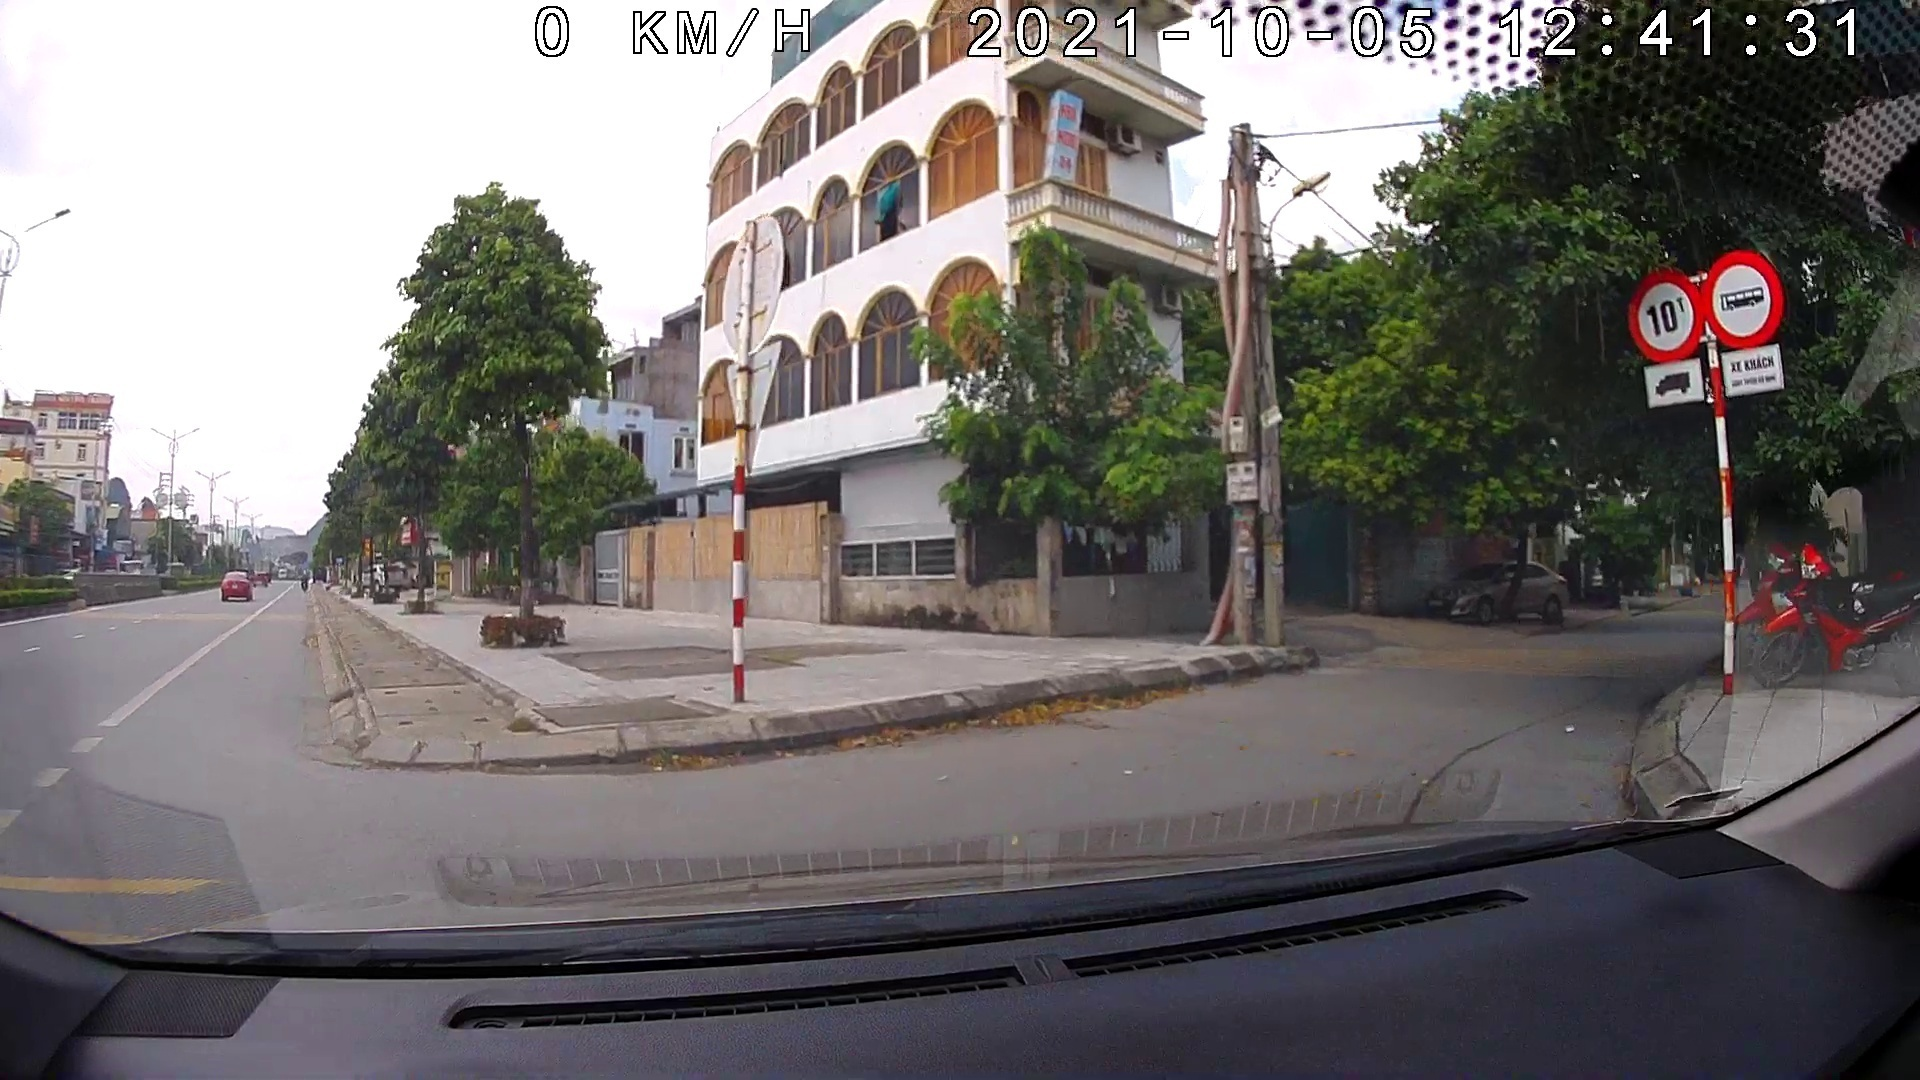Bien khac: (1698, 247, 1787, 349), (1619, 264, 1702, 367)
